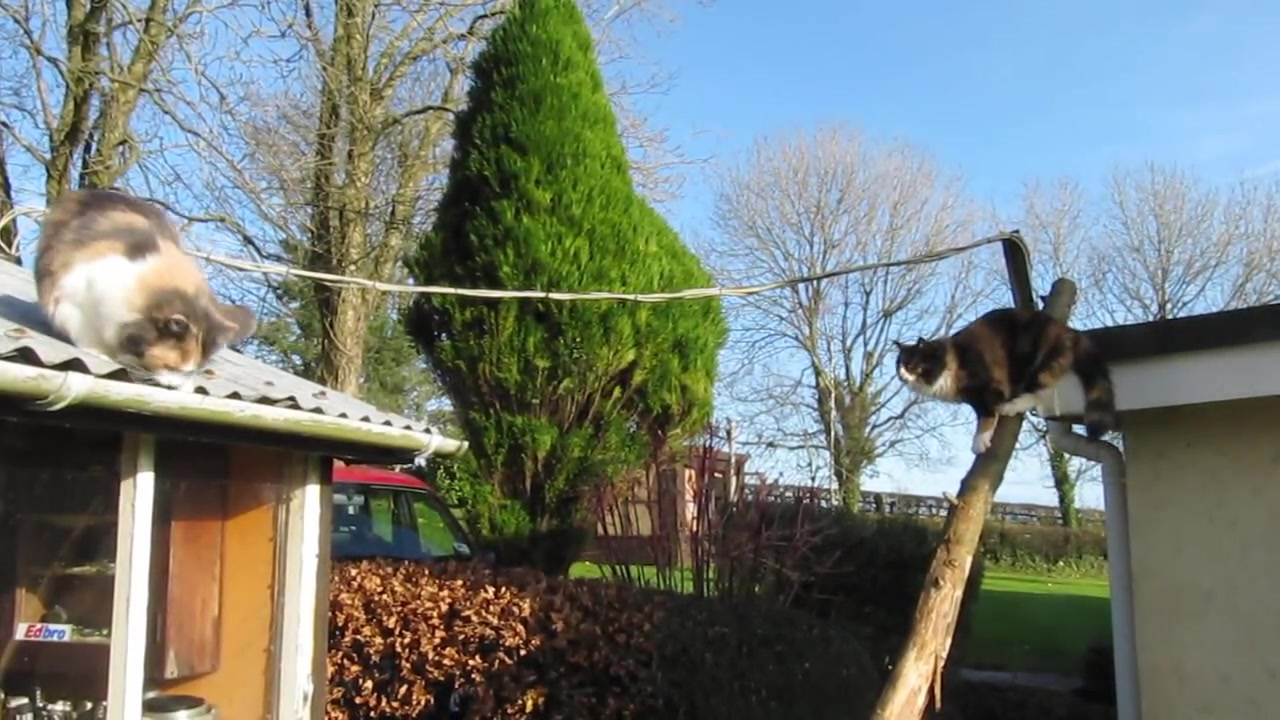cat: (892, 304, 1119, 454)
